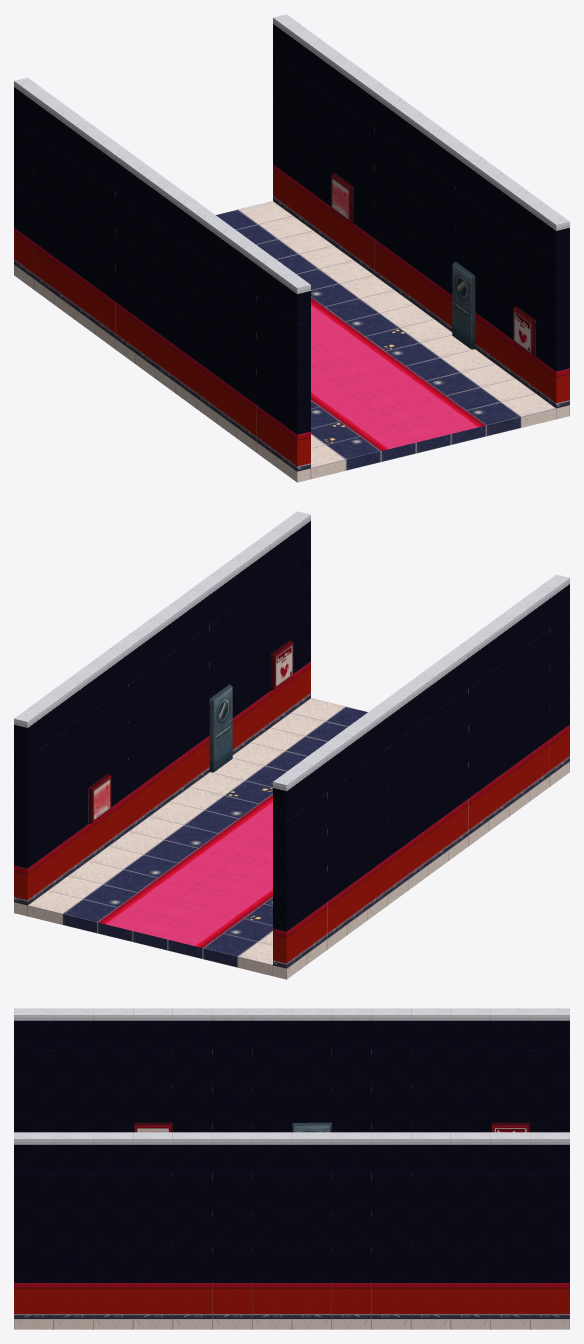
Rendered from CinemaHall.fbx.
The picture shows the model from 3 angles, top to bottom: view 1: azimuth 30°, elevation 25°; view 2: azimuth 150°, elevation 25°; view 3: azimuth 270°, elevation 25°; orthographic projection.
Visible parts, largest first — view 1: Hall; view 2: Hall; view 3: Hall.
Part boxes in pixels (<box>): Hall: <box>14,14,569,482</box>; Hall: <box>14,511,569,979</box>; Hall: <box>14,1008,569,1329</box>.
Size of the model in its own units: 778 by 530 by 1400.
